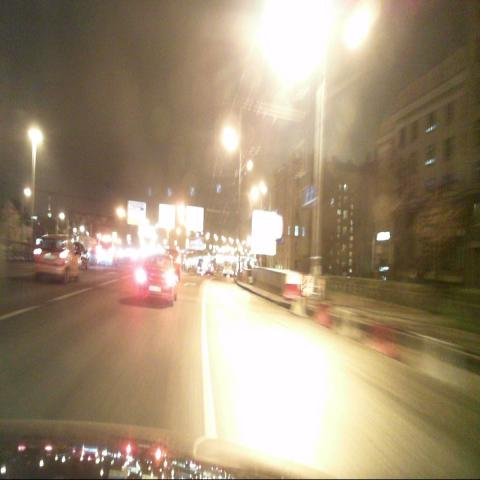6_6: (306, 185, 317, 206)
